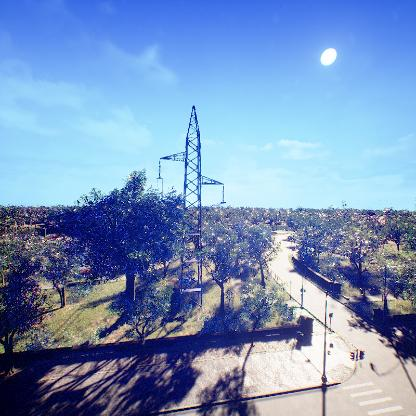tower: (153, 107, 228, 312)
